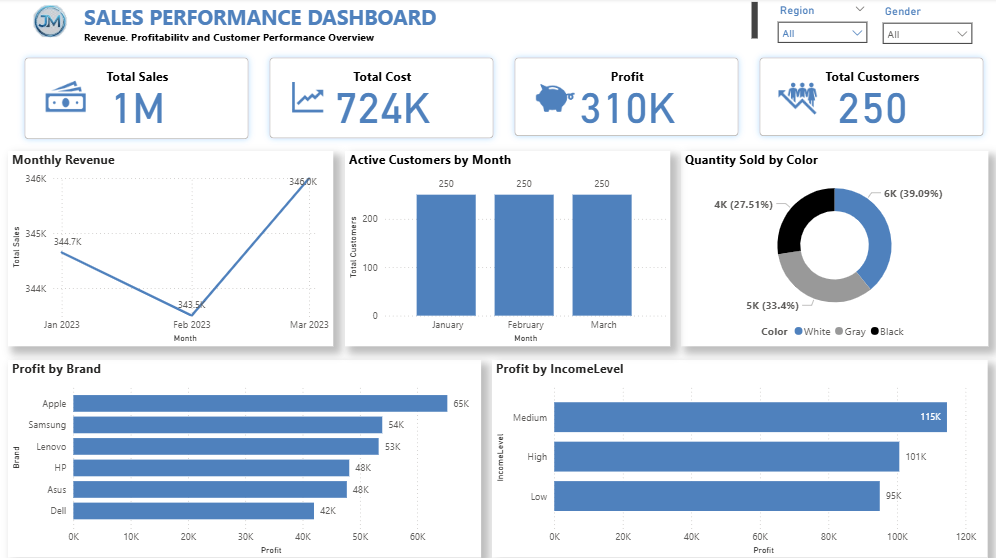

What the dashboard file says about the page in this screenshot:
{"tool":"powerbi","page":{"name":"Dashboard","canvas":[1280,720],"ordinal":0},"visuals":[{"type":"slicer","fields":{"Values":["Customers.Region"]},"box":[989.6,2.6,135,70.7],"z":0},{"type":"cardVisual","fields":{"Data":["Customers.Total Sales"]},"box":[15.4,60.4,320,137],"z":0,"group":"g1"},{"type":"slicer","fields":{"Values":["Customers.Gender"]},"box":[1124.5,3.9,134.9,69.4],"z":1000},{"type":"cardVisual","fields":{"Data":["Customers.Total Customers"]},"box":[960,60.4,320,133.7],"z":1000,"group":"g1"},{"type":"cardVisual","fields":{"Data":["Customers.Profit"]},"box":[645.1,60.4,320,133.7],"z":2000,"group":"g1"},{"type":"clusteredBarChart","fields":{"Y":["Customers.Profit"],"Category":["Products.Brand"]},"box":[10.3,465.2,607.9,254.5],"z":2000},{"type":"cardVisual","fields":{"Data":["Customers.Total Cost"]},"box":[330.3,60.4,320,136.2],"z":3000,"group":"g1"},{"type":"donutChart","title":"Quantity Sold by Color","fields":{"Category":["Products.Color"],"Y":["Customers.Total Quantity"]},"box":[875.2,196.6,394.5,250.6],"z":3000,"group":"g2"},{"type":"barChart","fields":{"Category":["Customers.IncomeLevel"],"Y":["Customers.Profit"]},"box":[632.3,465.2,637.4,254.5],"z":3000},{"type":"image","box":[36,0,56.5,60.4],"z":4000},{"type":"lineChart","title":"Monthly Revenue","fields":{"Y":["Customers.Total Sales"],"Category":["Sales.SaleDate.Variation.Date Hierarchy.Year","Sales.SaleDate.Variation.Date Hierarchy.Month"]},"box":[10.3,196.6,418,250.6],"z":4000,"group":"g2"},{"type":"group","id":"g1","title":"Group 1","box":[15.4,60.4,1264.6,136.2],"z":5000},{"type":"clusteredColumnChart","title":"Active Customers by Month","fields":{"Category":["Sales.SaleDate.Variation.Date Hierarchy.Month"],"Y":["Customers.Total Customers"]},"box":[442.9,196.6,417.7,250.6],"z":5000,"group":"g2"},{"type":"image","box":[51.4,93.8,66.8,66.8],"z":6000},{"type":"image","box":[362.4,95.1,65.5,65.5],"z":7000},{"type":"image","box":[679.8,95.1,65.5,65.5],"z":8000},{"type":"image","box":[992.1,95.1,65.5,65.5],"z":9000},{"type":"group","id":"g2","title":"Group 2","box":[10.3,196.6,1259.4,250.6],"z":10000},{"type":"textbox","box":[102.8,0,876.5,60.4],"z":11000}]}

Visuals, with their boxes in screenshot pixels (x1, y1, x2, y2), scaled from the page's 1280x720 canvas onto the 996x558 screenshot:
slicer - Customers.Region: l=770, t=2, r=875, b=57
cardVisual - Customers.Total Sales: l=12, t=47, r=261, b=153
slicer - Customers.Gender: l=875, t=3, r=980, b=57
cardVisual - Customers.Total Customers: l=747, t=47, r=995, b=150
cardVisual - Customers.Profit: l=502, t=47, r=751, b=150
clusteredBarChart - Customers.Profit x Products.Brand: l=8, t=361, r=481, b=557
cardVisual - Customers.Total Cost: l=257, t=47, r=506, b=152
"Quantity Sold by Color" donutChart: l=681, t=152, r=988, b=347
barChart - Customers.IncomeLevel x Customers.Profit: l=492, t=361, r=988, b=557
image: l=28, t=0, r=72, b=47
"Monthly Revenue" lineChart: l=8, t=152, r=333, b=347
"Group 1" group: l=12, t=47, r=995, b=152
"Active Customers by Month" clusteredColumnChart: l=345, t=152, r=670, b=347
image: l=40, t=73, r=92, b=124
image: l=282, t=74, r=333, b=124
image: l=529, t=74, r=580, b=124
image: l=772, t=74, r=823, b=124
"Group 2" group: l=8, t=152, r=988, b=347
textbox: l=80, t=0, r=762, b=47
